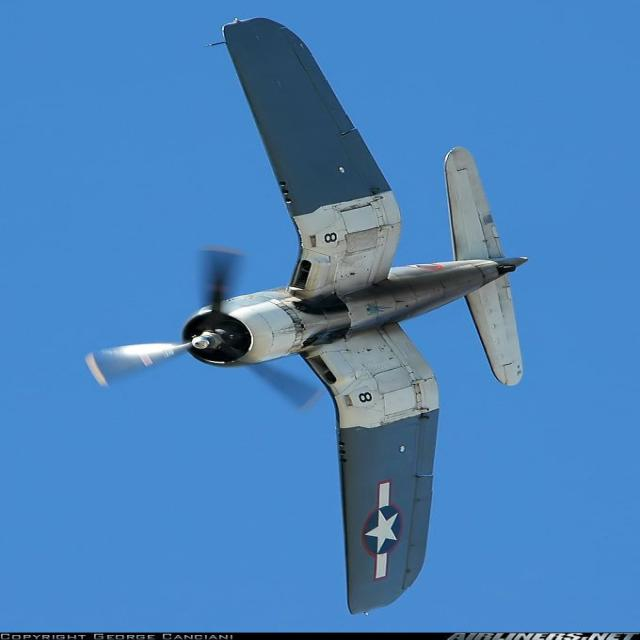iha: (80, 15, 527, 617)
